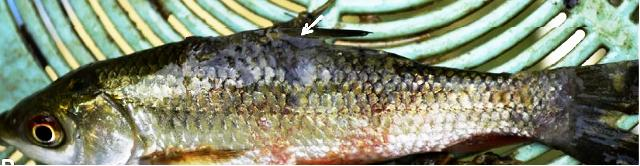Epizootic Ulcerative Syndrome -EUS-: (0, 7, 638, 165)
